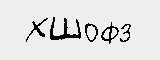З: (120, 23, 132, 46)
О: (83, 21, 98, 44)
Ф: (99, 19, 120, 46)
Х: (19, 14, 48, 43)
Ш: (48, 16, 86, 40)
